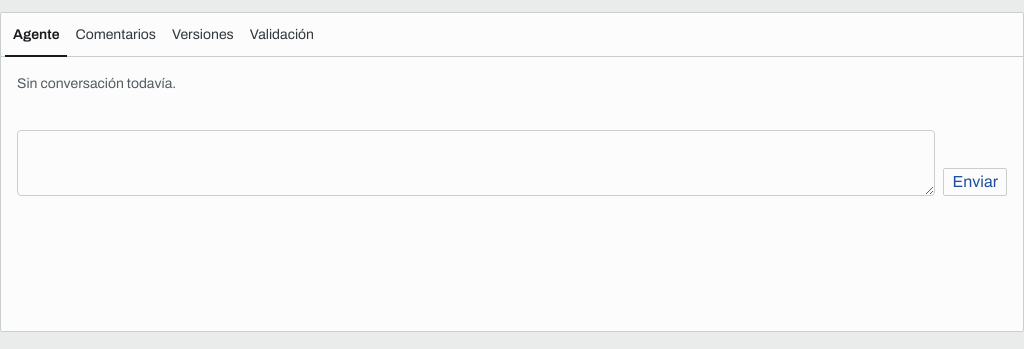
Test: DocumentPanelTabs (WO-359) › defaults to the "Agente" tab and switches panels on click without remounting logic twice
This screenshot has width=1024, height=349.
Expected: the text box named "Mensaje para el agente" is shown, [17,130,936,196]
Click the tab "Comentarios" at (116, 35), box [68,13,164,57]
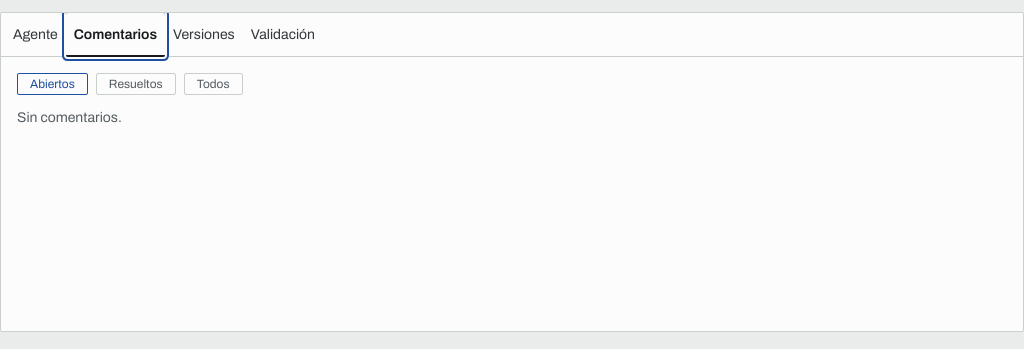
Result: the element "comentarios" is shown at [17,73,243,125]
Click the tab "Versiones" at (204, 35), box [165,13,243,57]
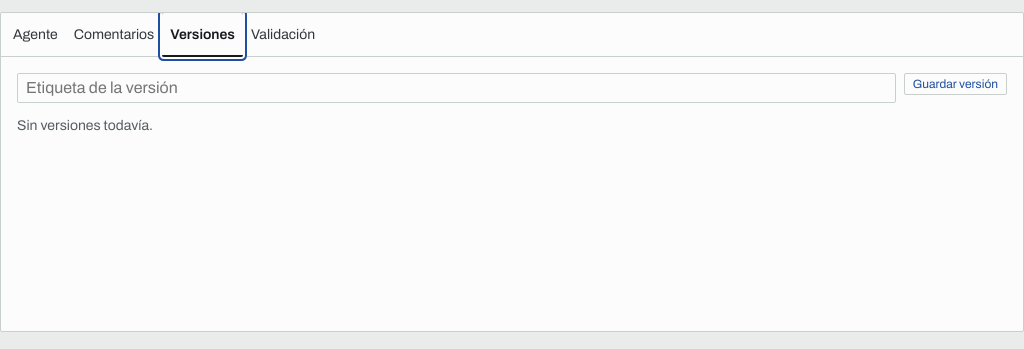
Result: the element "versiones" is shown at [17,73,1007,136]
Click the tab "Validación" at (283, 35), box [243,13,323,57]
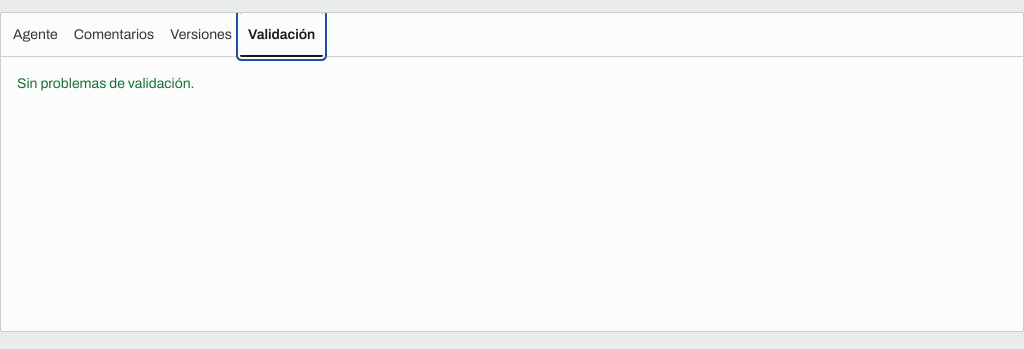
Result: the text "Sin problemas de validación." is shown at [17,76,194,91]
